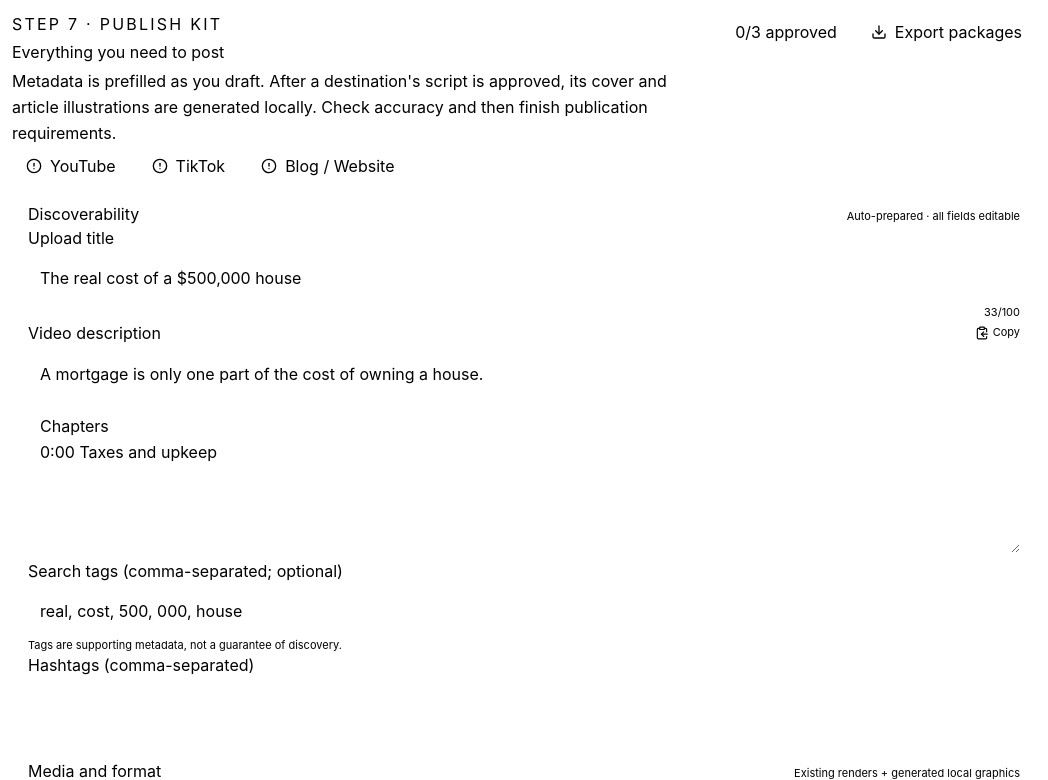
Test: PlatformOptimization › keeps a failed local save editable without reporting it as persisted approval
Step 1. Replace the text in the field labelled "Upload title" with "My unsaved local title" → point(524, 278), box x1=28 y1=256 x2=1020 y2=300
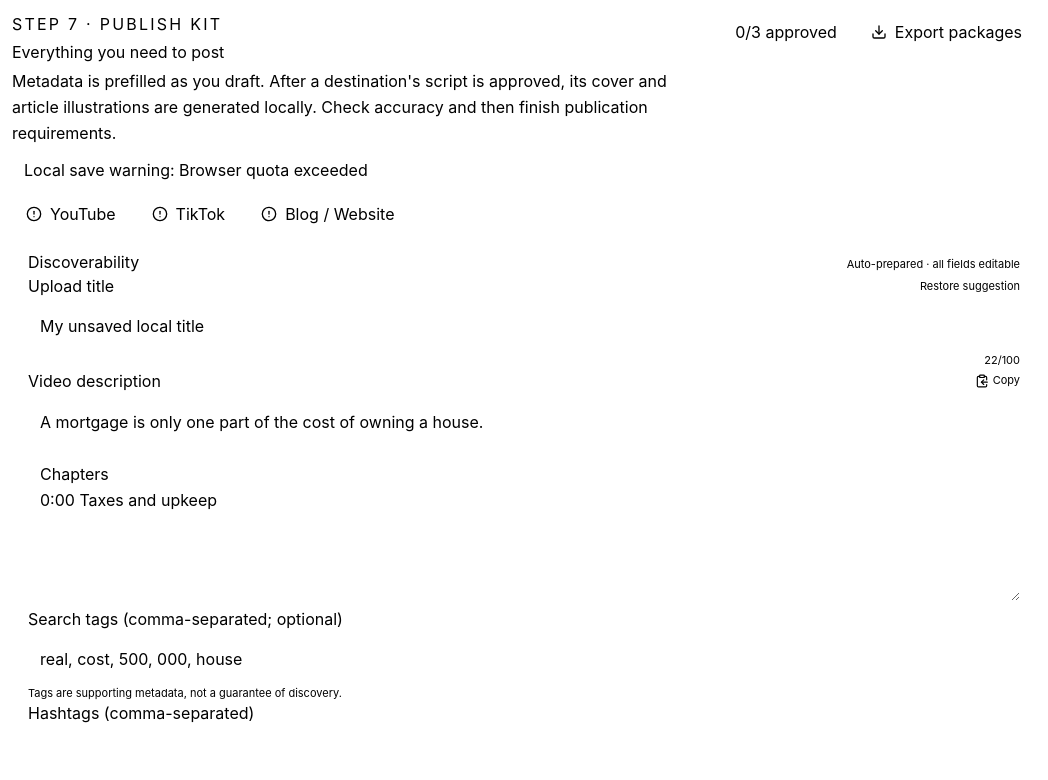
Expected: the text "Local save warning: Browser quota exceeded" is shown, x1=24 y1=160 x2=368 y2=180
